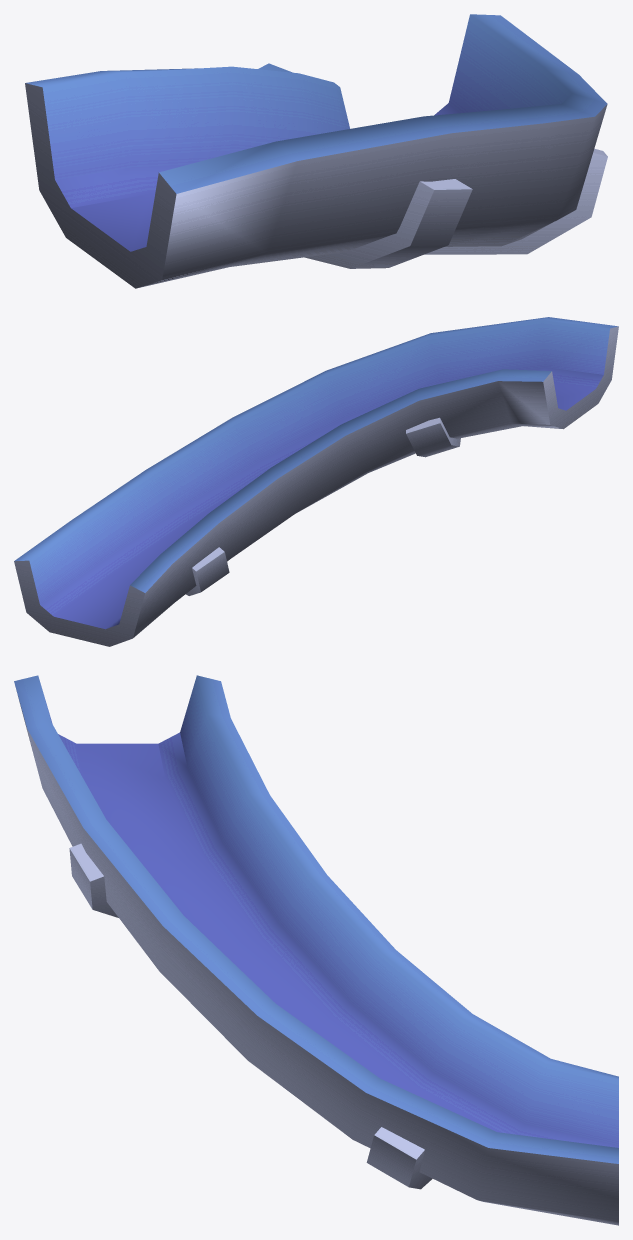
The model's file is coaster-flume-corner-small-ramp.glb.
The picture shows the model from 3 angles, top to bottom: view 1: azimuth 30°, elevation 25°; view 2: azimuth 150°, elevation 25°; view 3: azimuth 270°, elevation 25°; orthographic projection. The views are drawn at different scales.
Parts seen in each view (by area): view 1: coaster-flume-corner-small-ramp; view 2: coaster-flume-corner-small-ramp; view 3: coaster-flume-corner-small-ramp.
Part boxes in pixels (x1,y1,x2,y2): coaster-flume-corner-small-ramp: [25, 14, 607, 288]; coaster-flume-corner-small-ramp: [14, 317, 618, 646]; coaster-flume-corner-small-ramp: [14, 675, 618, 1225].
Size of the model in its own units: 7.24 by 4.2 by 7.24.
1 material, 1 textured.
